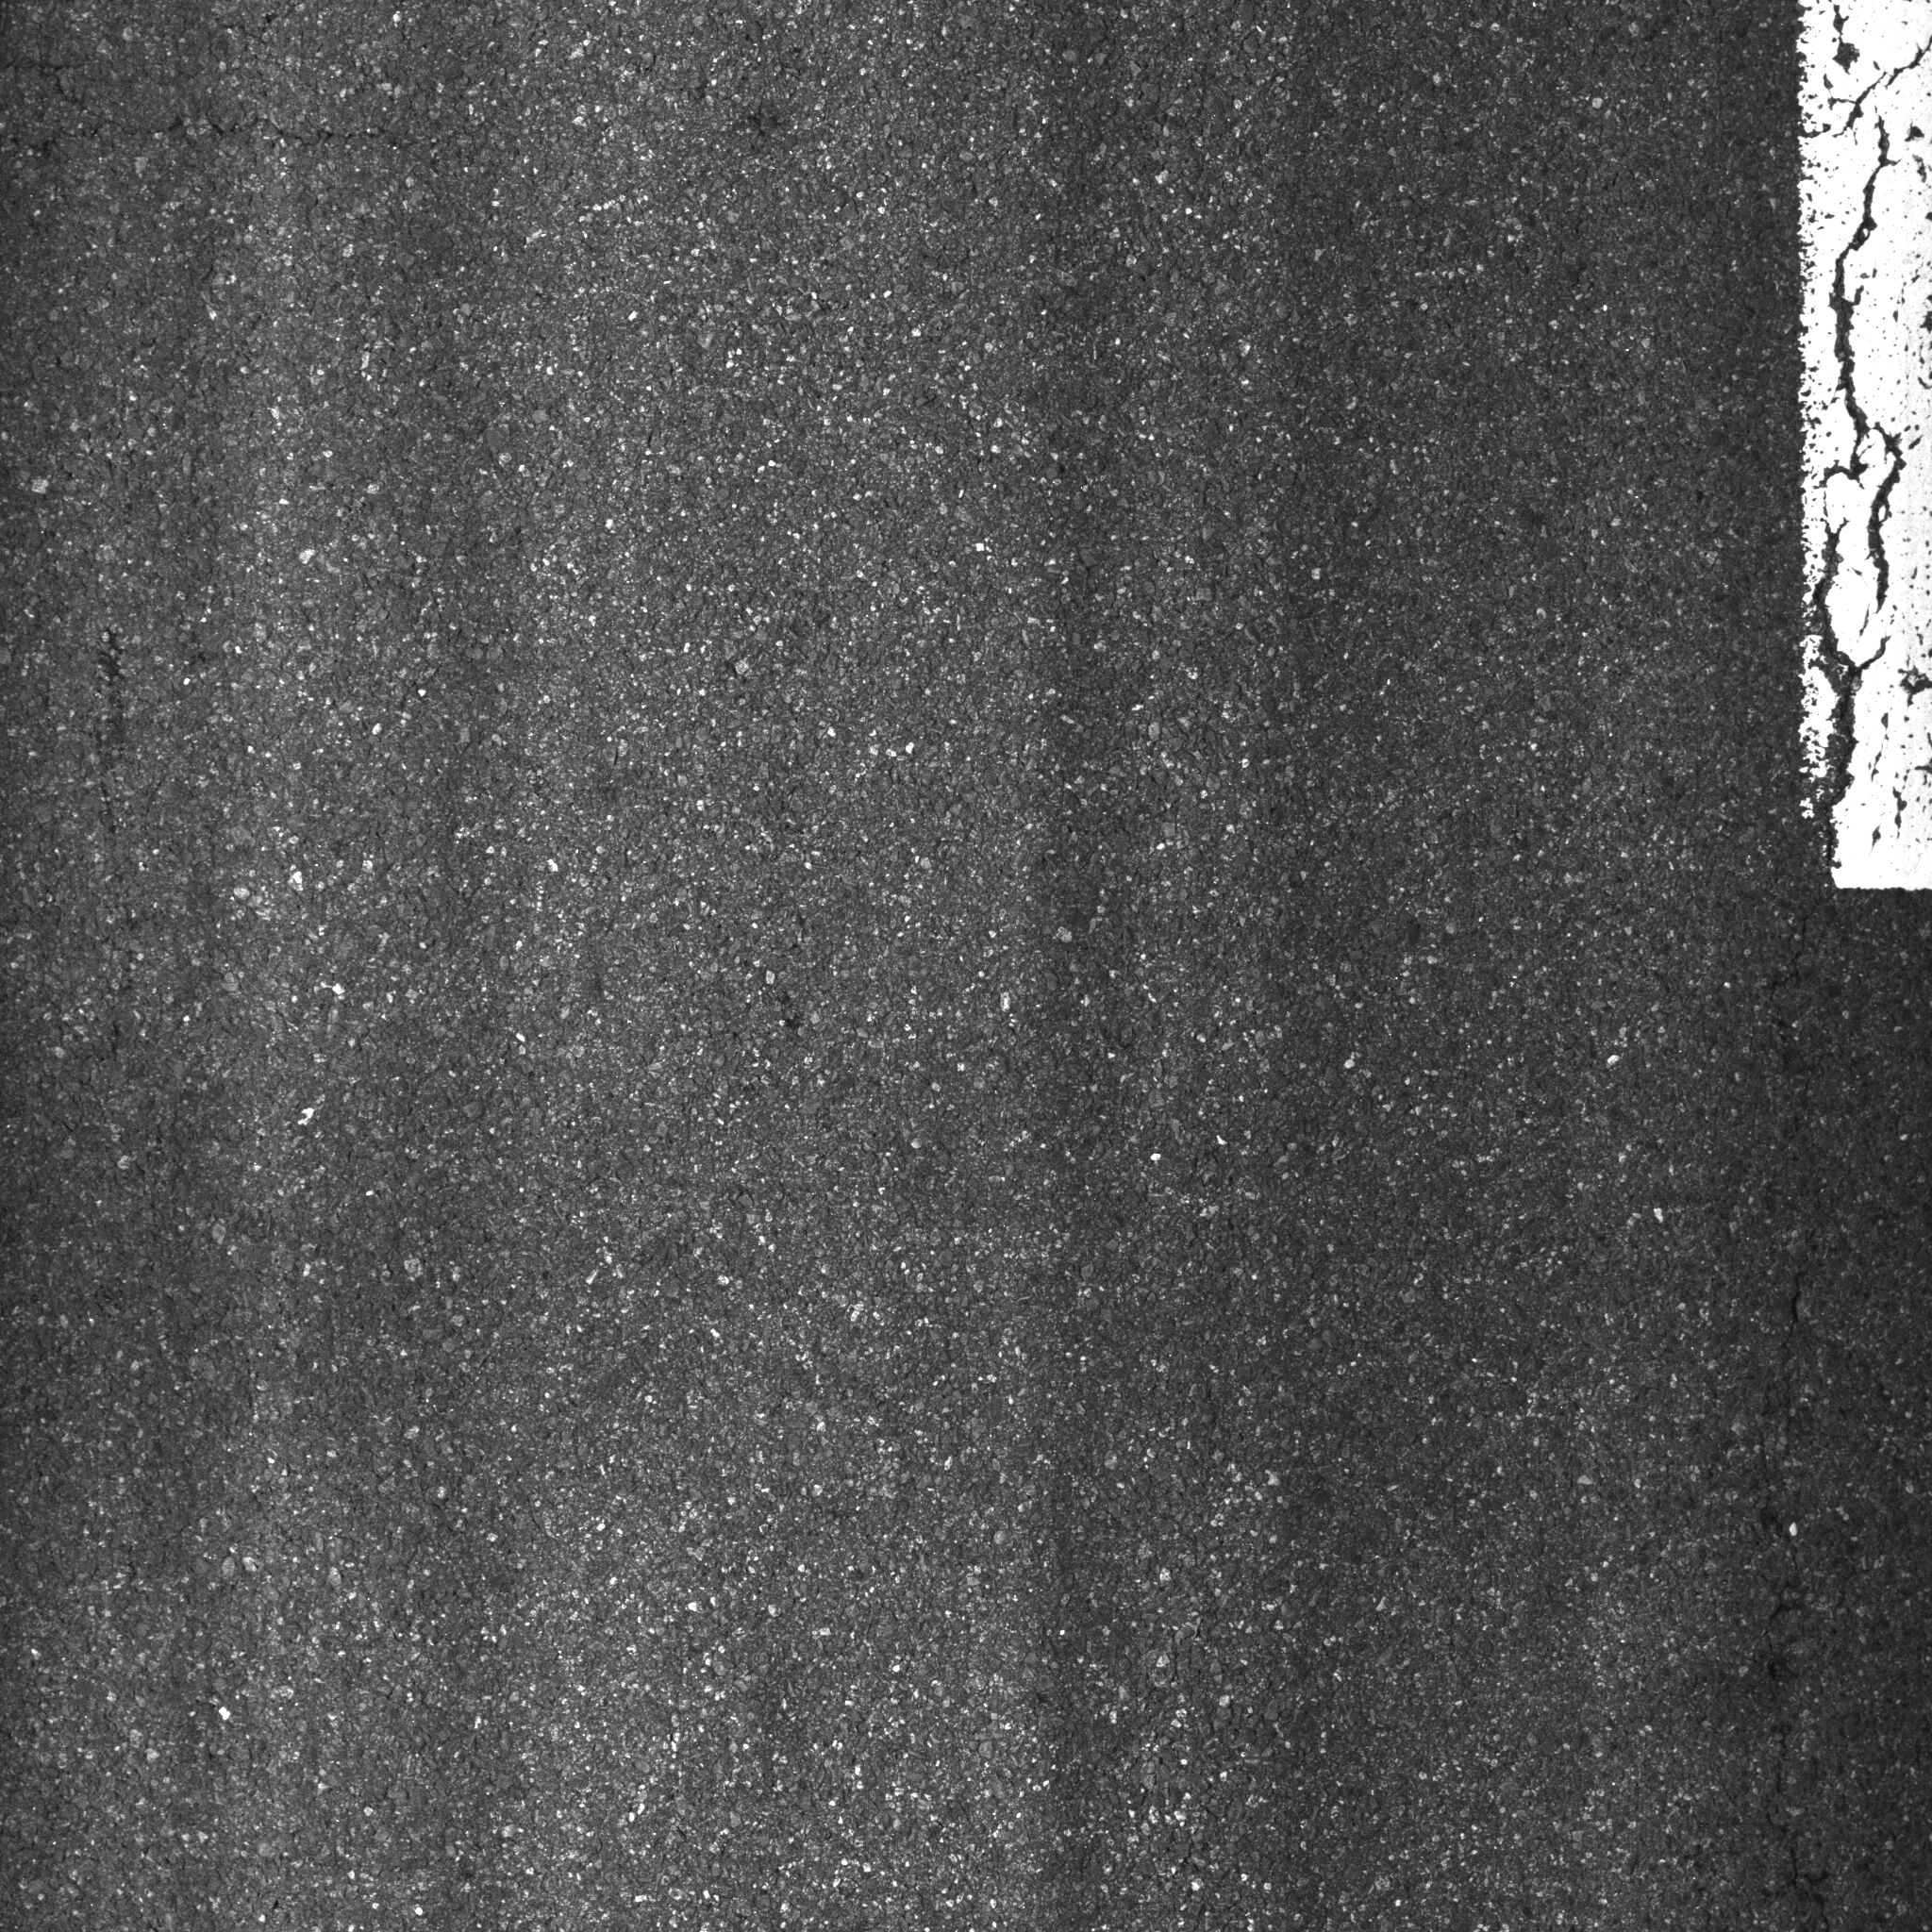transeverse: (1757, 2, 1913, 1925), (21, 21, 448, 175)
